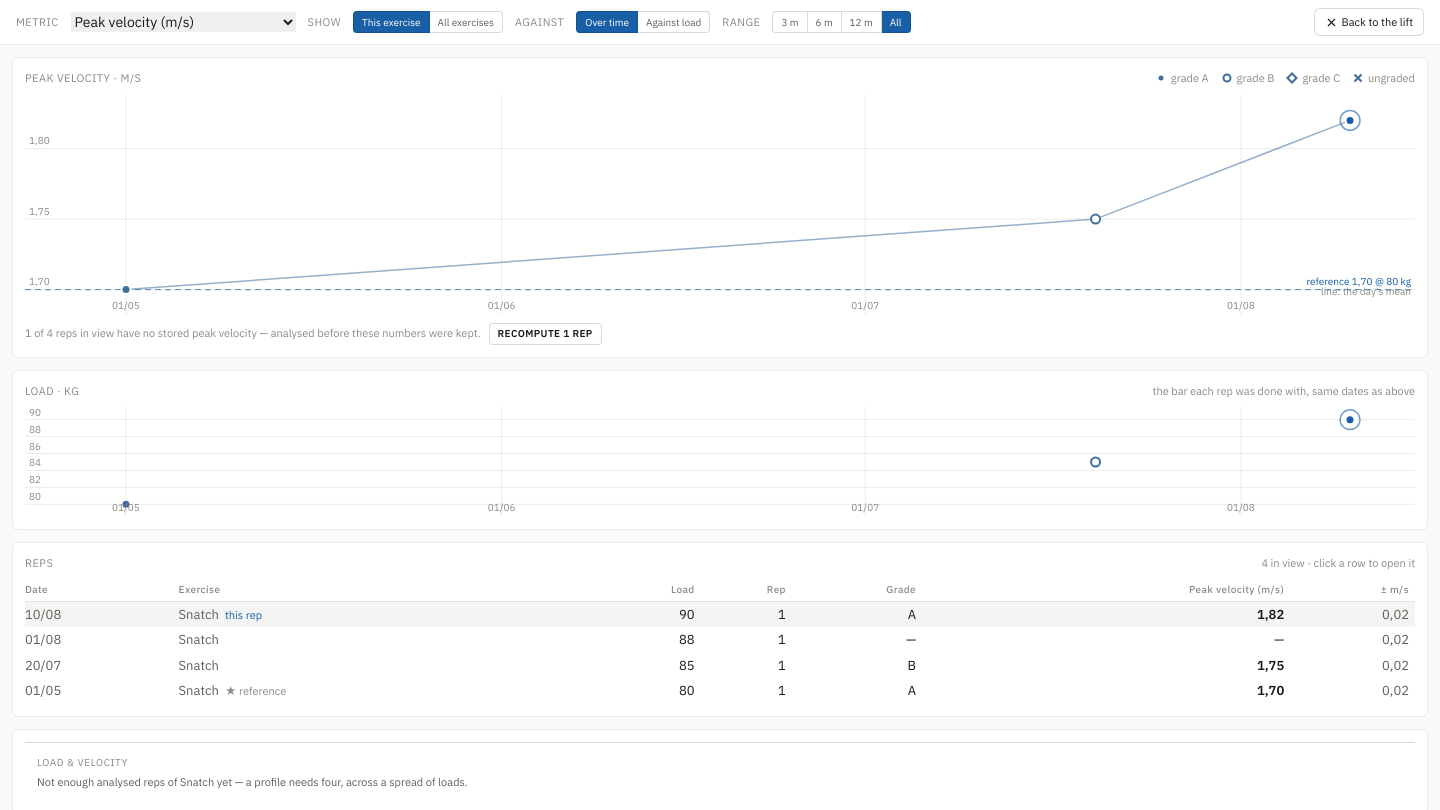
Test: TrendsView › draws the exercise’s reference as a labelled line, whatever the range
This screenshot has width=1440, height=810.
Expected: the text "reference 1,70 @ 80 kg" is shown, top-left (1306, 274), bottom-right (1411, 289)
Expected: the text "★ reference" is shown, top-left (225, 684), bottom-right (286, 698)
// Narrow the range past the reference's date: the row goes, the line stays.
Click the button "3 m" at (790, 22), box top-left (772, 11), bottom-right (808, 33)
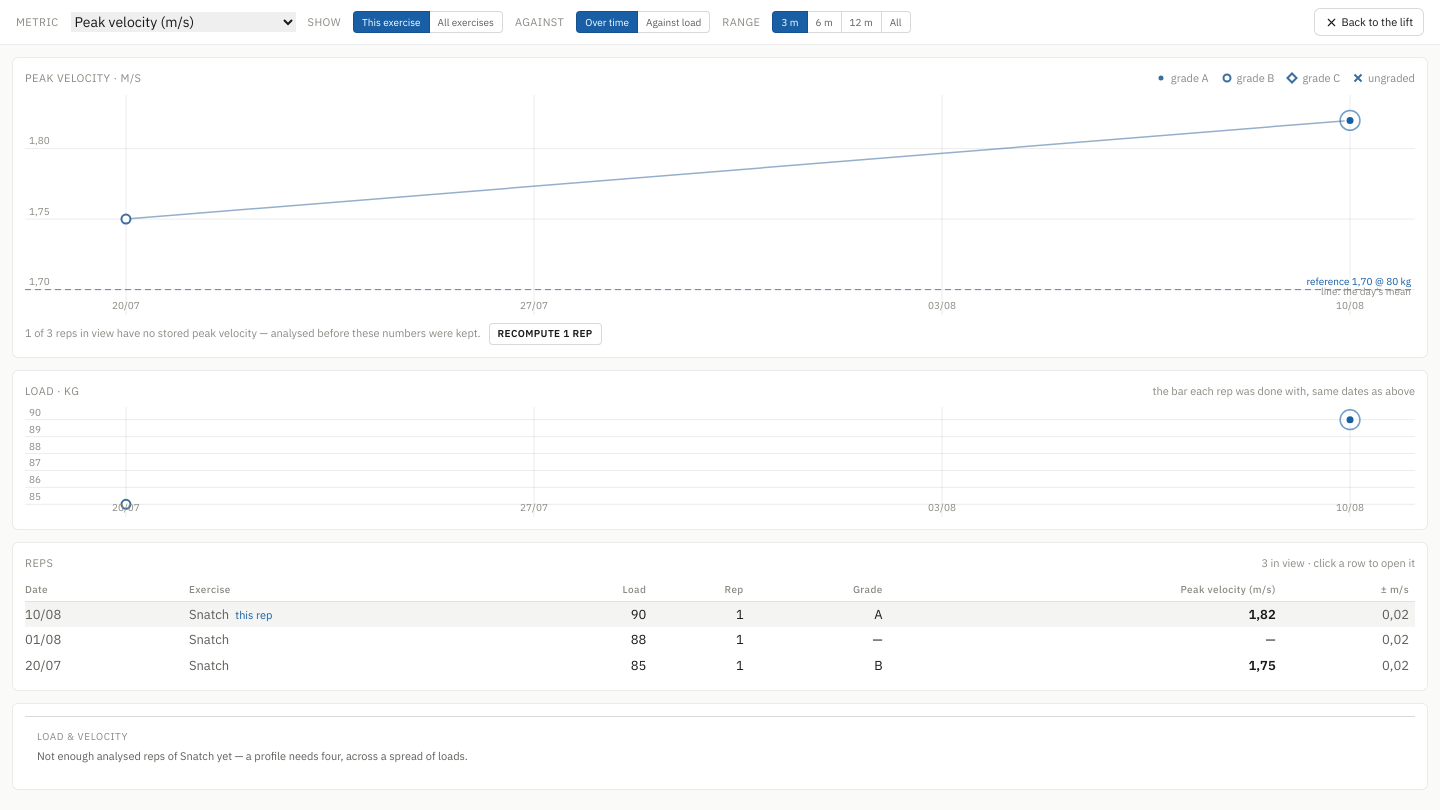
Expected: the text "reference 1,70 @ 80 kg" is shown, top-left (1306, 274), bottom-right (1411, 289)
Result: the text "★ reference" is gone
